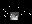person: (11, 9, 20, 20)
